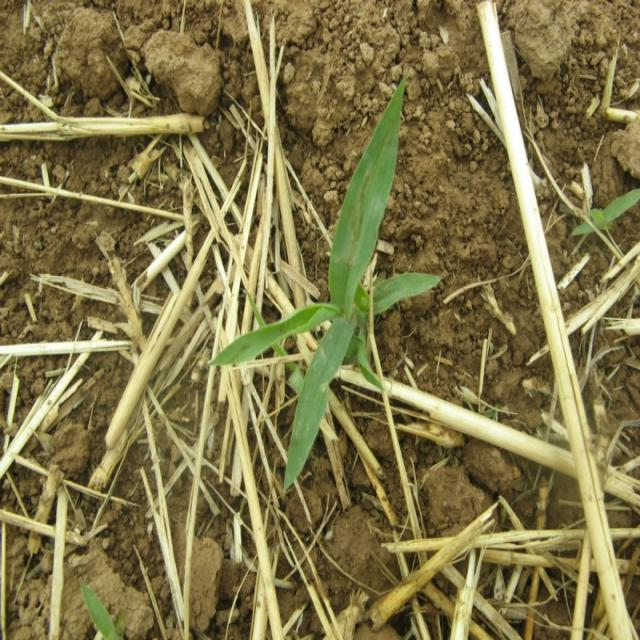bg: (220, 84, 444, 488)
